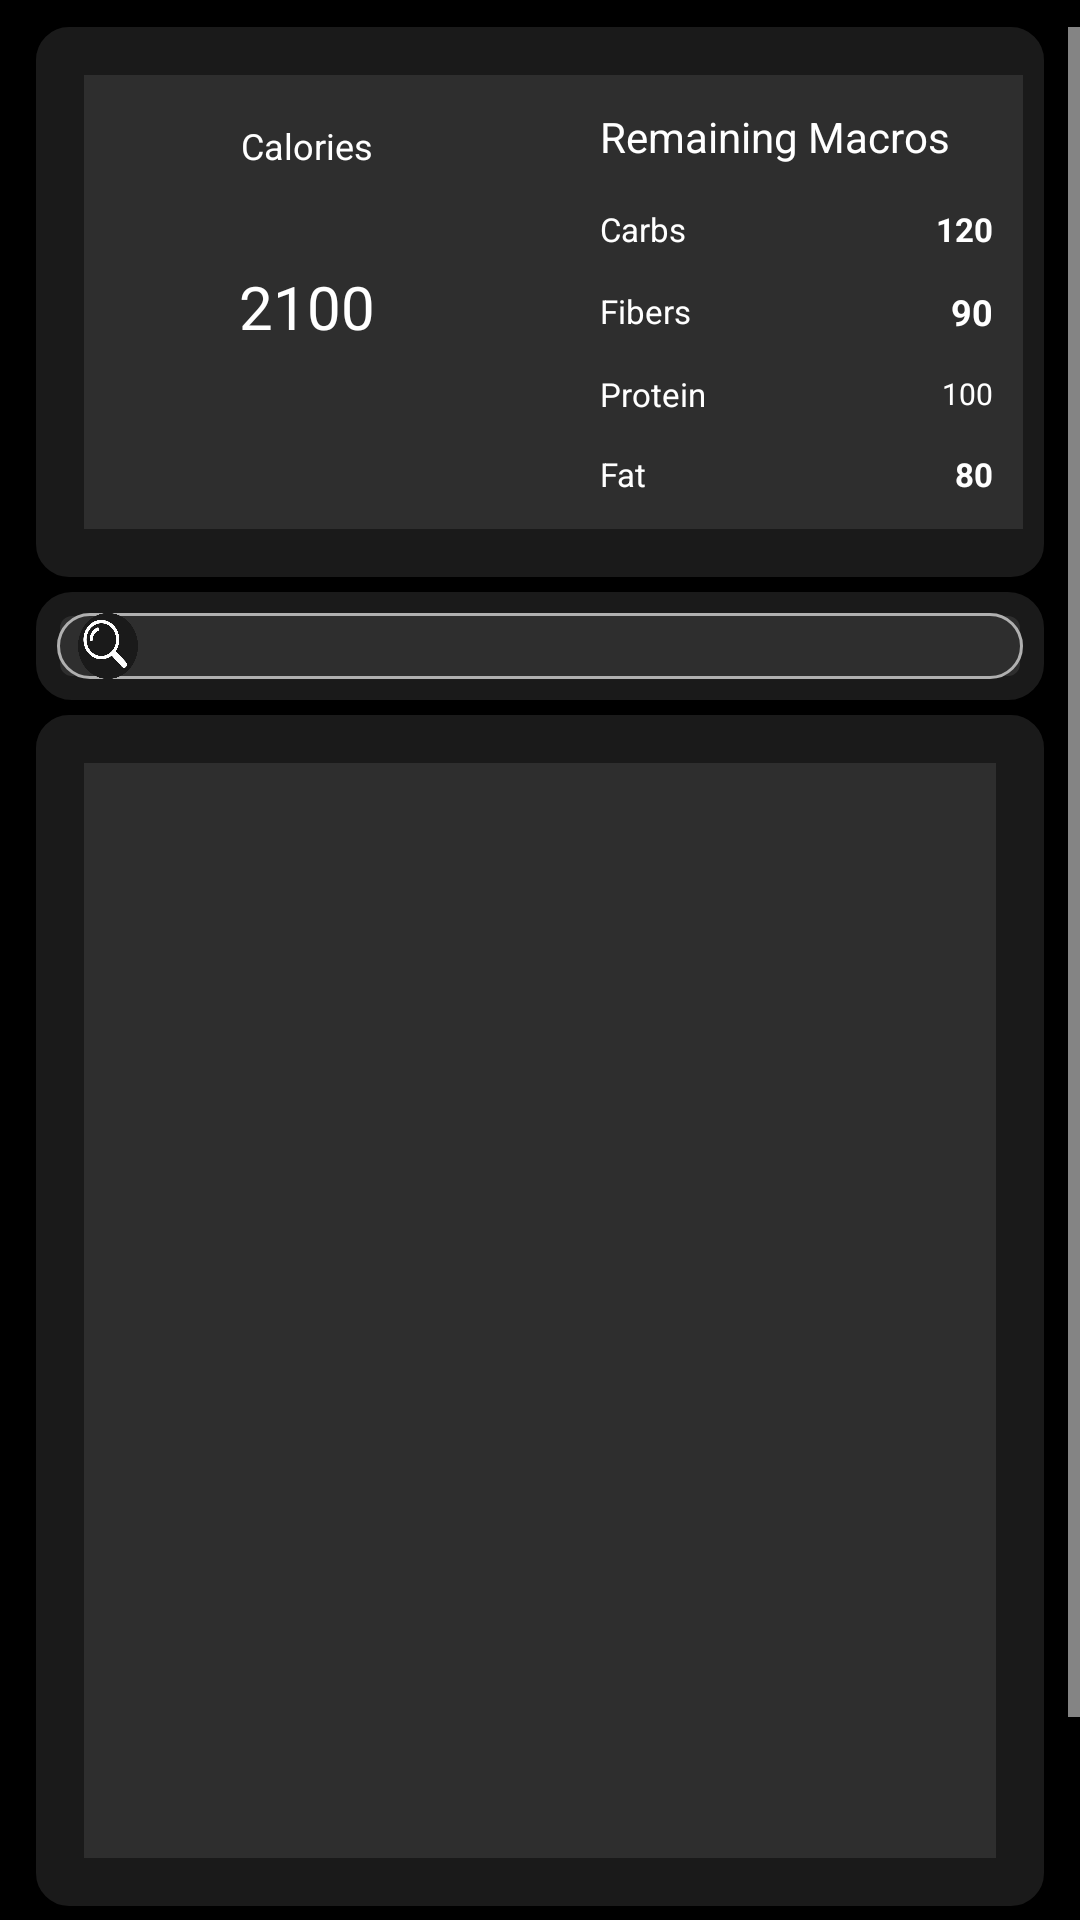

Icon bounding boxes for this 1080×1920 phone screenshot, format (x1, y1, x2, y2):
searchicon: (83, 620, 127, 668)
